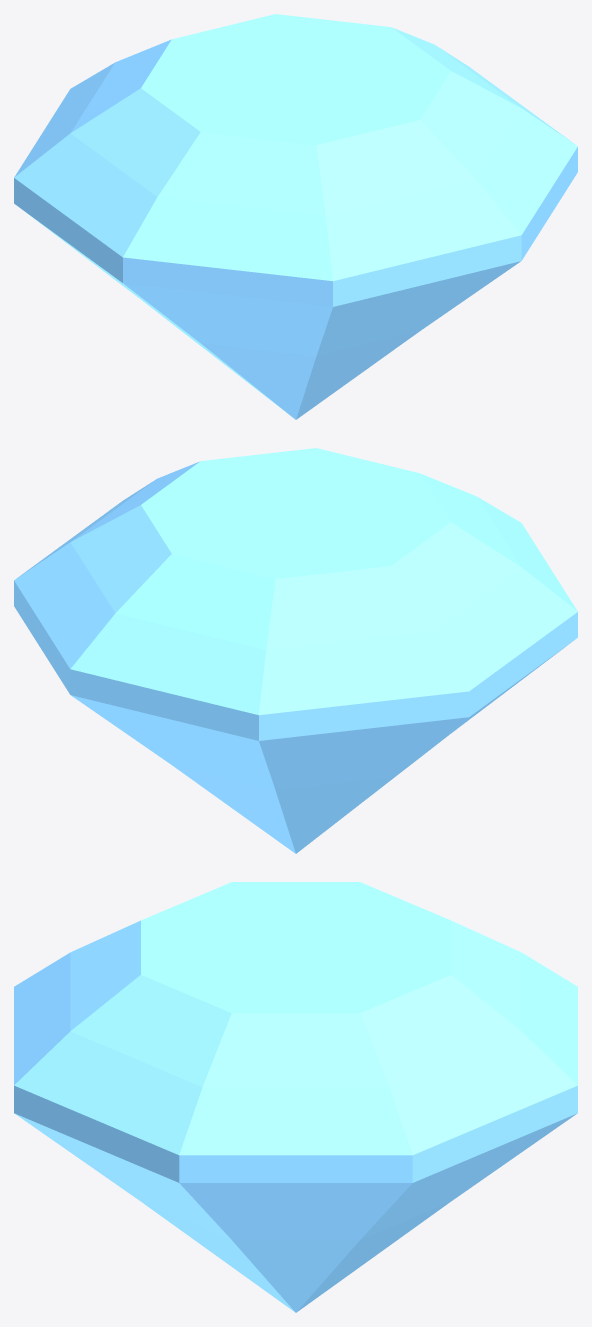
Rendered from topaz-jewel.glb.
The picture shows the model from 3 angles, top to bottom: view 1: azimuth 30°, elevation 25°; view 2: azimuth 150°, elevation 25°; view 3: azimuth 270°, elevation 25°; orthographic projection. The views are drawn at different scales.
Visible parts, largest first — view 1: Topaz; view 2: Topaz; view 3: Topaz.
Part boxes in pixels (left/top/right/bottom): Topaz: left=14, top=14, right=577, bottom=419; Topaz: left=14, top=448, right=577, bottom=853; Topaz: left=14, top=882, right=577, bottom=1312.
Size of the model in its own units: 1.85 by 1.32 by 1.85.
